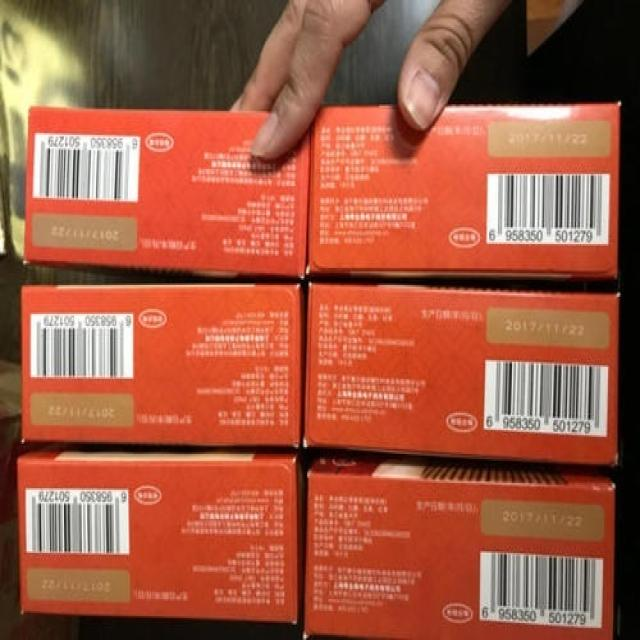box: (303, 284, 620, 465), (305, 454, 615, 638), (308, 103, 621, 278), (18, 443, 305, 623), (23, 107, 310, 277), (22, 284, 300, 445)
